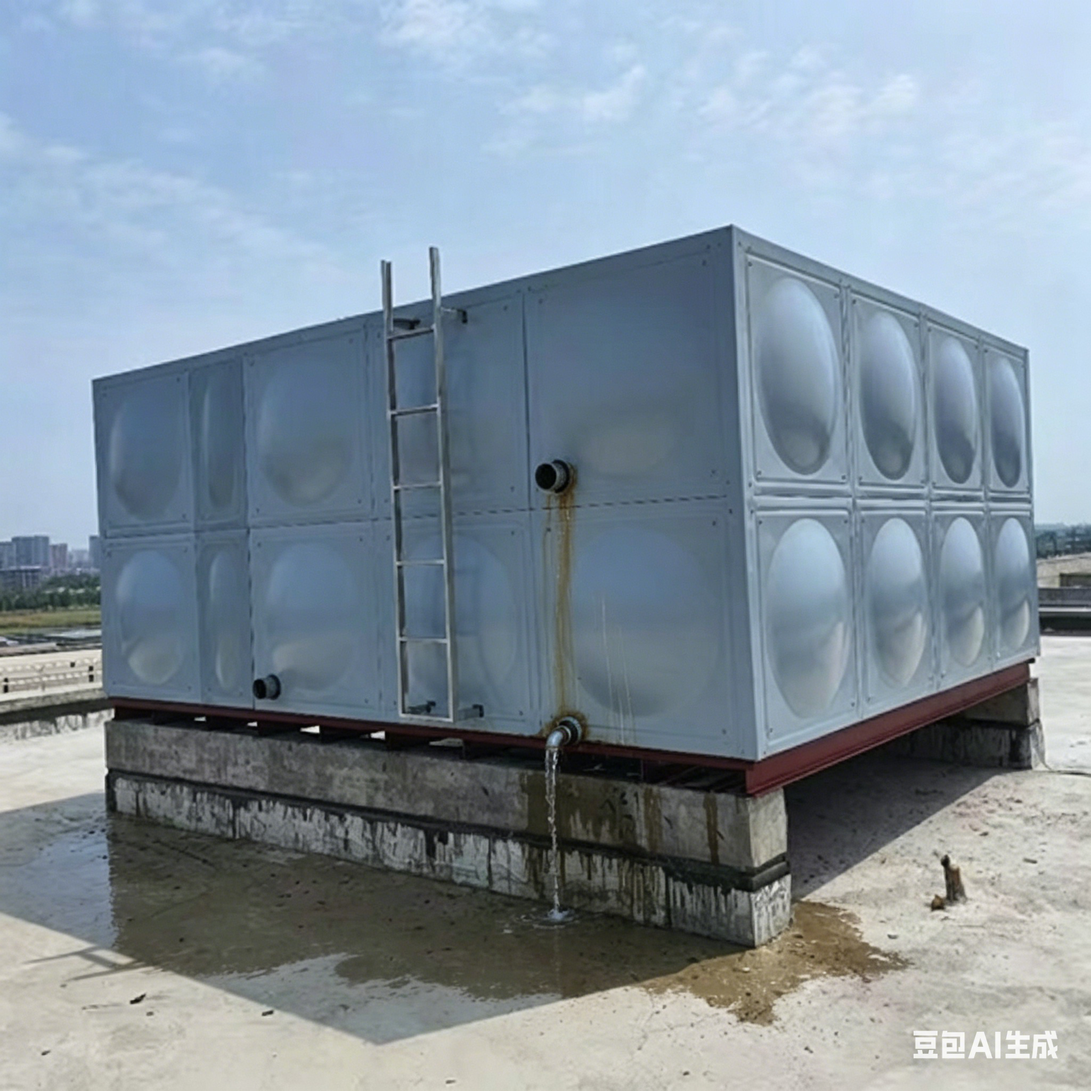Leakage: (32, 822, 529, 995), (596, 919, 909, 1017), (535, 744, 580, 929)
